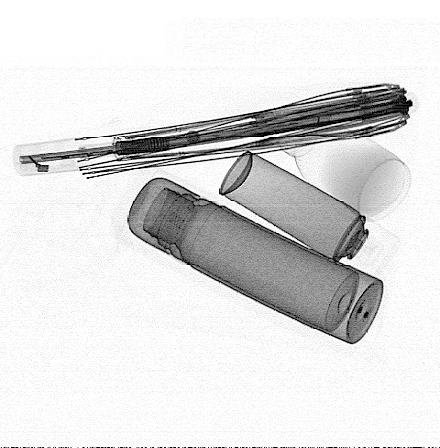Sprayer: (218, 148, 403, 284)
